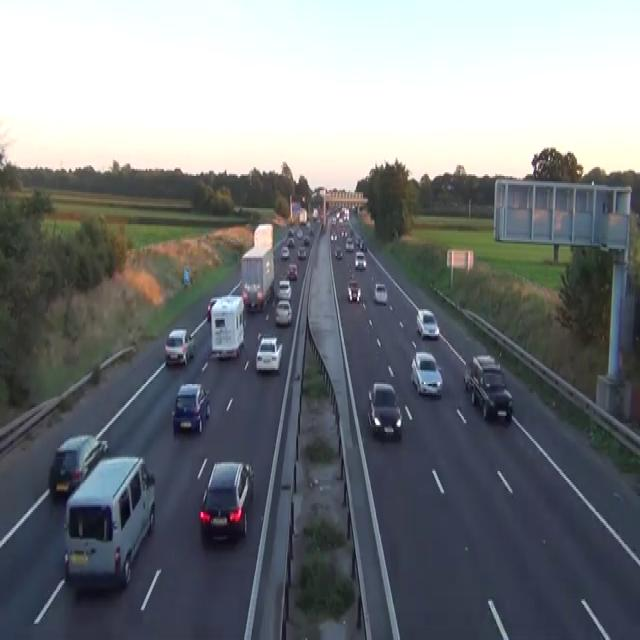Car: (199, 460, 254, 542), (48, 434, 108, 499), (470, 366, 513, 422), (171, 382, 210, 434), (367, 382, 402, 439), (410, 351, 443, 396), (463, 354, 499, 391), (164, 327, 195, 366), (255, 336, 283, 372), (416, 308, 439, 338), (242, 283, 265, 311), (275, 299, 292, 325), (347, 279, 361, 302), (206, 297, 219, 320), (277, 279, 291, 299), (374, 283, 387, 304), (463, 361, 472, 391), (354, 250, 366, 268), (286, 263, 298, 279), (280, 246, 289, 260), (297, 246, 306, 260), (334, 246, 343, 260), (358, 238, 367, 251), (345, 238, 353, 251), (286, 237, 294, 247), (330, 231, 337, 242), (312, 208, 318, 220), (233, 204, 241, 213), (303, 235, 310, 245), (296, 228, 303, 238), (446, 183, 454, 190), (351, 204, 357, 213), (305, 218, 310, 228), (340, 228, 346, 236), (308, 228, 314, 236), (287, 228, 293, 236), (331, 215, 336, 224), (450, 201, 457, 206), (441, 183, 445, 190)
Truck: (63, 455, 155, 590), (240, 222, 275, 311), (210, 293, 245, 359)
